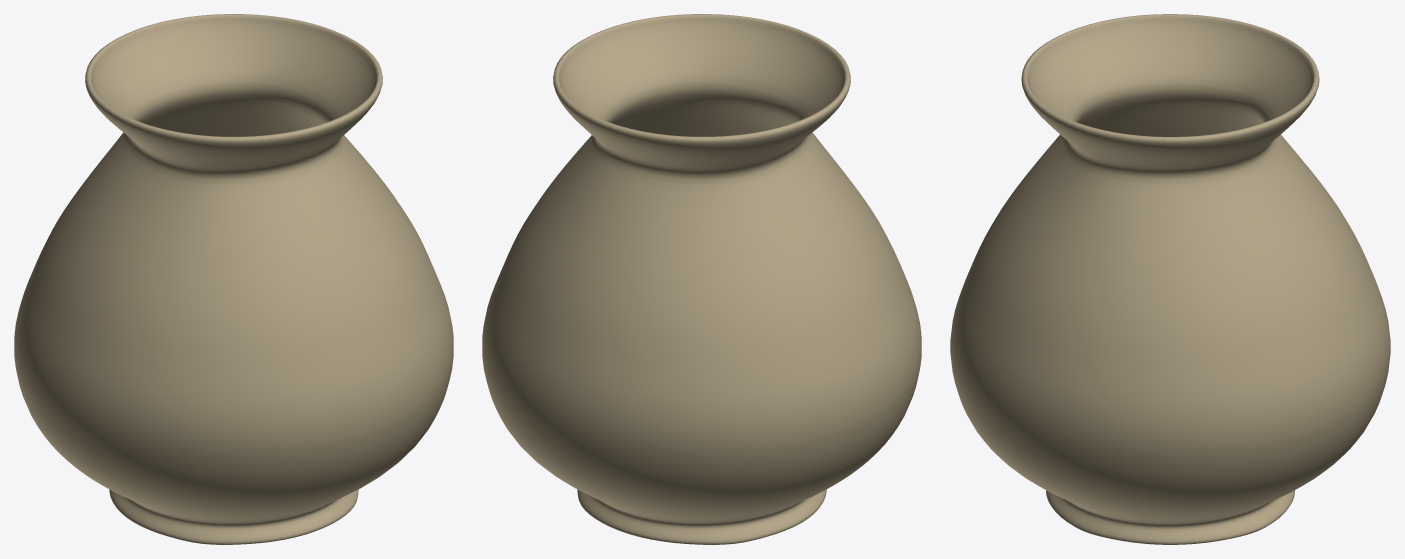
The model's file is Ceramic Vase.fbx.
3 views of the same model, side by side, from view 1: azimuth 30°, elevation 25°; view 2: azimuth 150°, elevation 25°; view 3: azimuth 270°, elevation 25° (orthographic).
Visible parts, largest first — view 1: Vase; view 2: Vase; view 3: Vase.
Part boxes in pixels (x1,y1,x2,y2): Vase: (14,14,453,544); Vase: (482,14,921,544); Vase: (950,14,1390,544).
Size of the model in its own units: 202 by 213 by 202.
